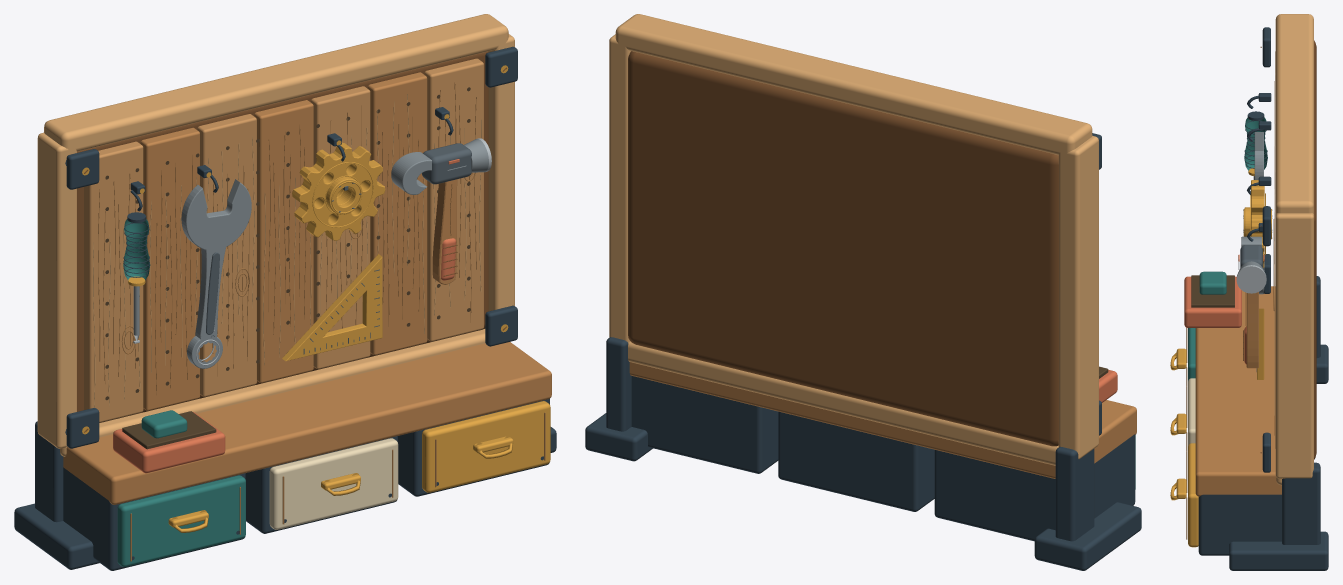
File: workshop-tool-rack-high-no-plants.glb
3 views of the same model, side by side, from view 1: azimuth 30°, elevation 25°; view 2: azimuth 150°, elevation 25°; view 3: azimuth 270°, elevation 25° (orthographic). The views are drawn at different scales.
Parts seen in each view (by area): view 1: timber, plank, edge, brass, navy, teal, cream, steel, grain, darkWood, grainLight, coral (+2 smaller); view 2: darkWood, edge, navy, timber; view 3: edge, timber, navy, brass, coral, teal, darkWood, shadow, steel, grain, steelEdge, cream (+2 smaller).
Boxes of the visible parts, <box> form: timber: <box>63,72,551,504</box>; plank: <box>84,58,483,422</box>; edge: <box>37,14,514,456</box>; brass: <box>82,65,550,532</box>; navy: <box>14,46,556,570</box>; teal: <box>117,219,245,566</box>; cream: <box>269,438,398,529</box>; steel: <box>133,139,488,368</box>; grain: <box>98,82,545,561</box>; darkWood: <box>77,51,506,432</box>; grainLight: <box>93,94,481,407</box>; coral: <box>113,159,459,473</box>; darkWood: <box>628,51,1058,446</box>; edge: <box>609,14,1098,465</box>; navy: <box>585,133,1141,570</box>; timber: <box>629,362,1136,478</box>; edge: <box>1275,14,1313,485</box>; timber: <box>1195,75,1281,496</box>; navy: <box>1198,27,1328,570</box>; brass: <box>1170,167,1271,547</box>; coral: <box>1184,254,1264,364</box>; teal: <box>1188,117,1267,380</box>; darkWood: <box>1243,40,1316,459</box>; shadow: <box>1191,275,1234,307</box>; steel: <box>1238,132,1264,294</box>; grain: <box>1186,81,1274,539</box>; steelEdge: <box>1236,265,1266,293</box>; cream: <box>1188,378,1195,445</box>.
Size of the model in its own units: 1.54 by 1.25 by 0.4932.
